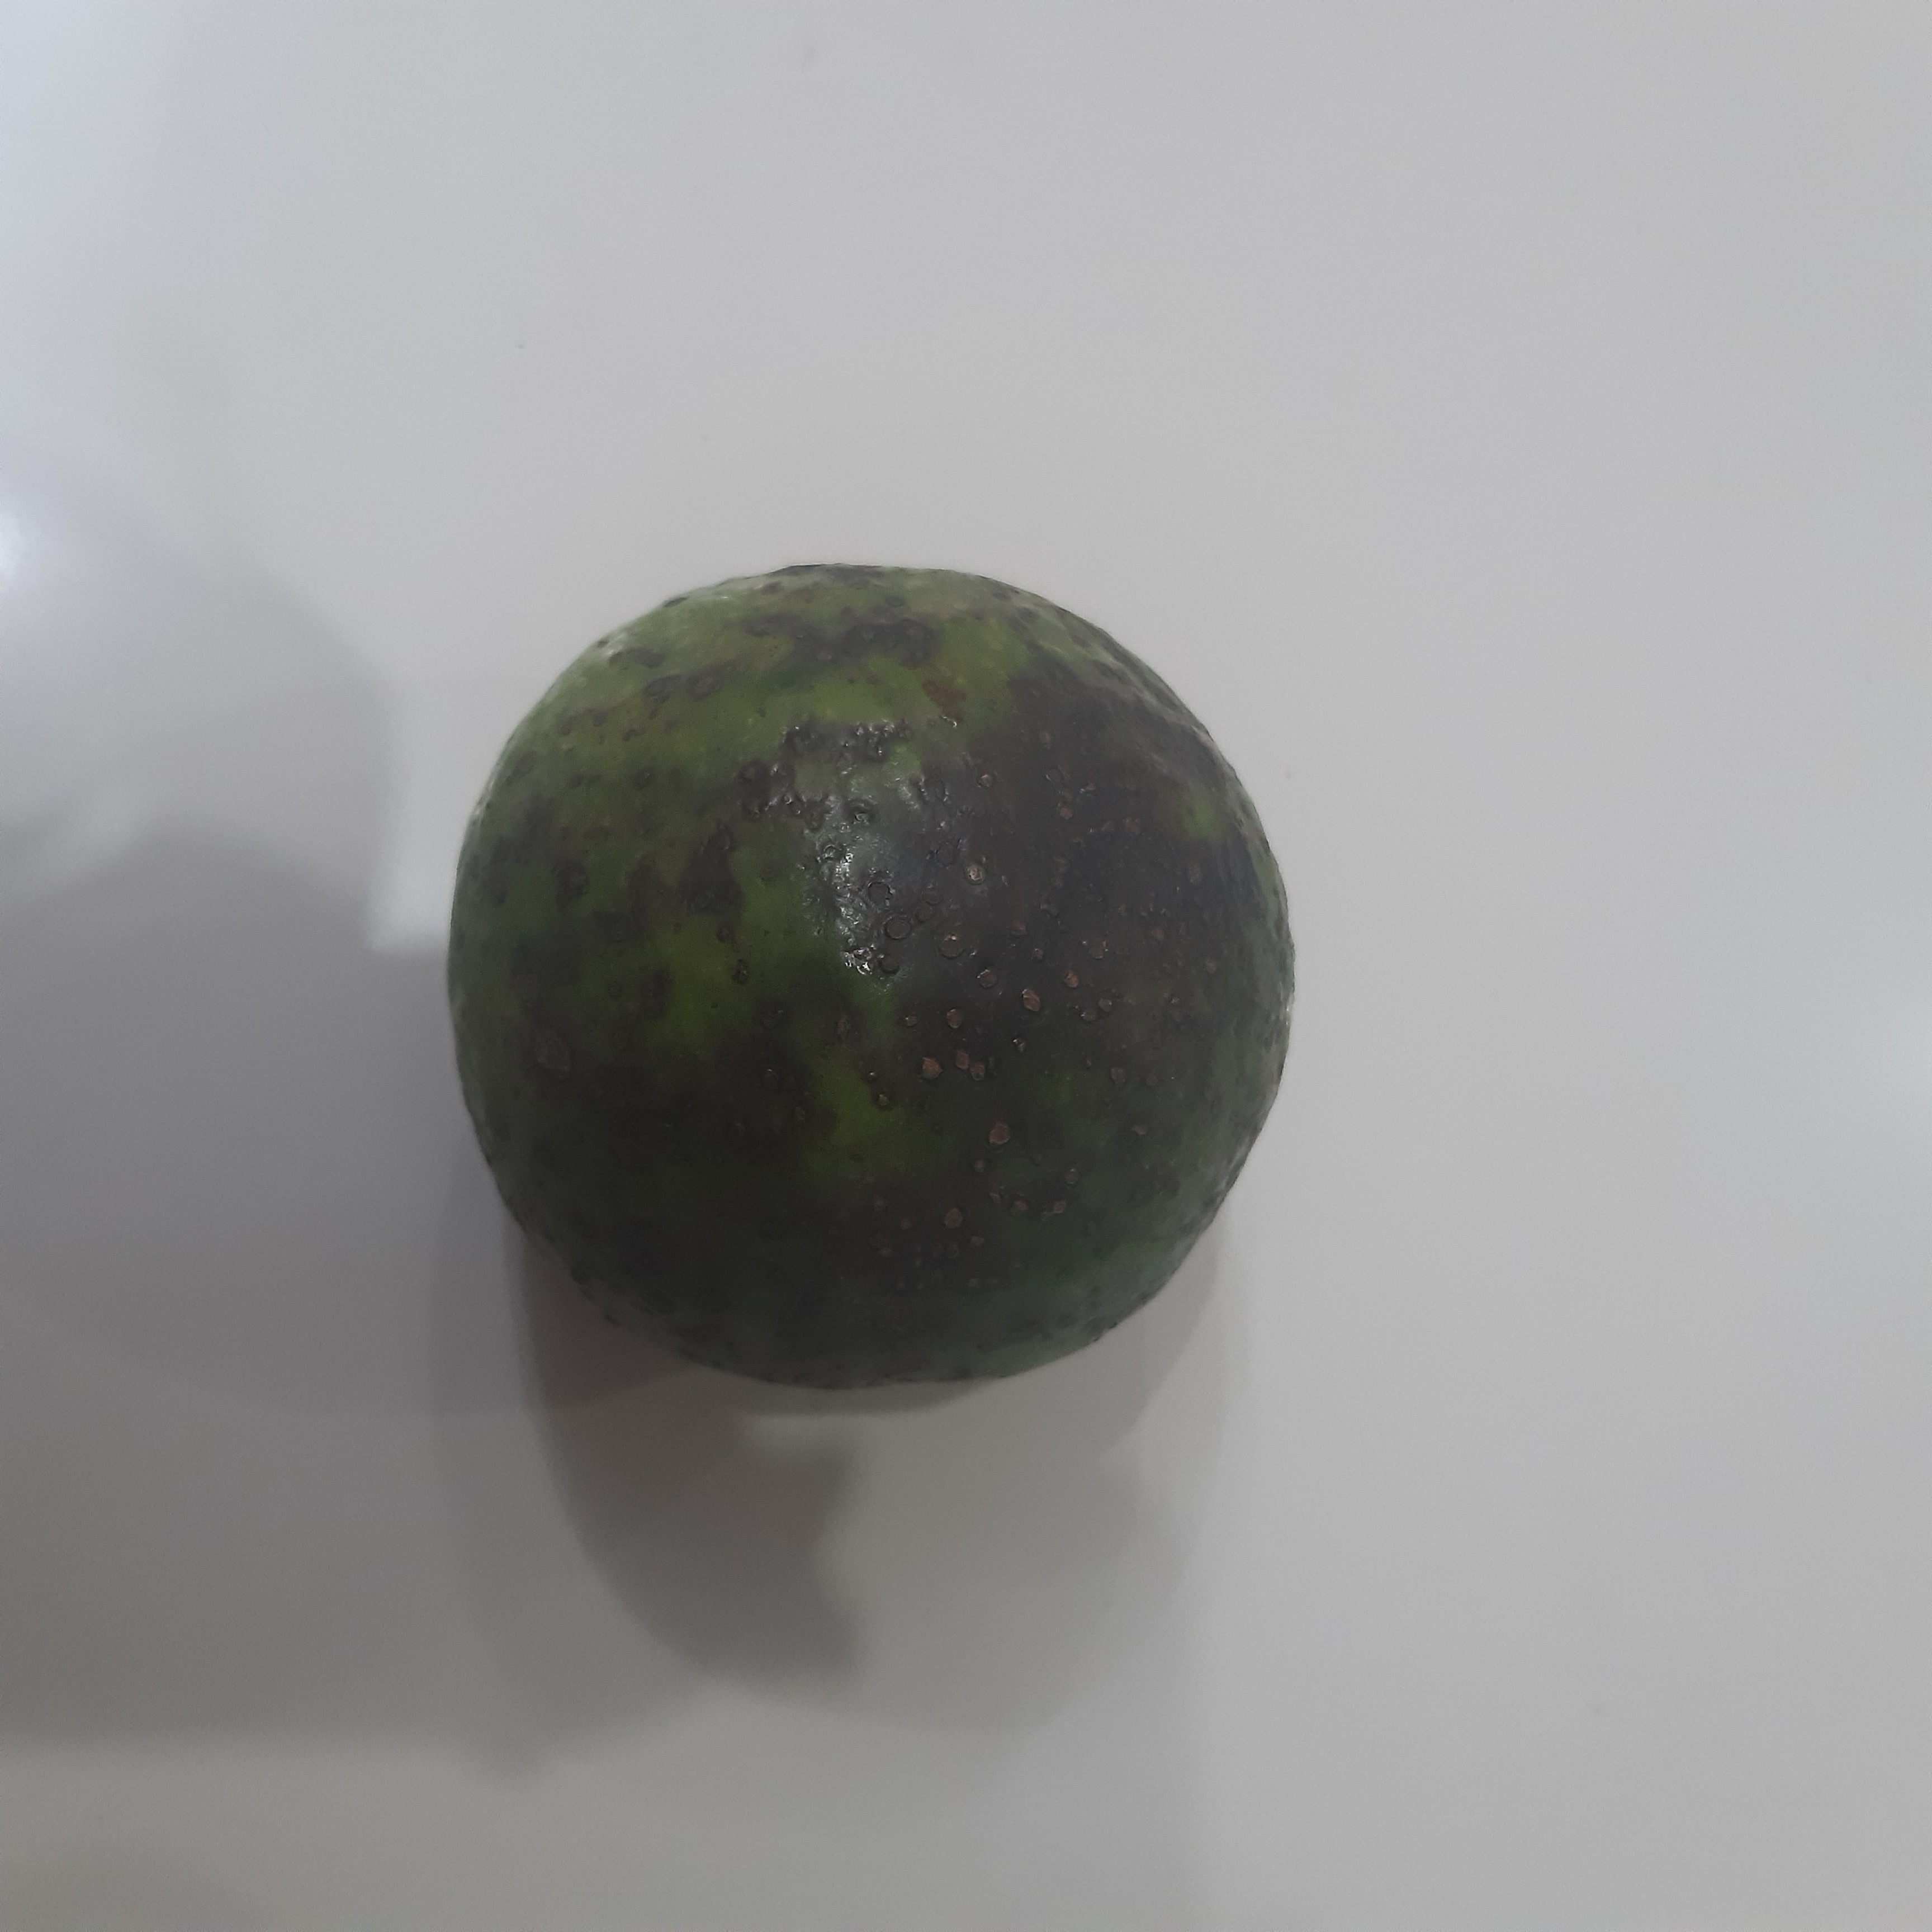Bo: (441, 559, 1299, 1401)
